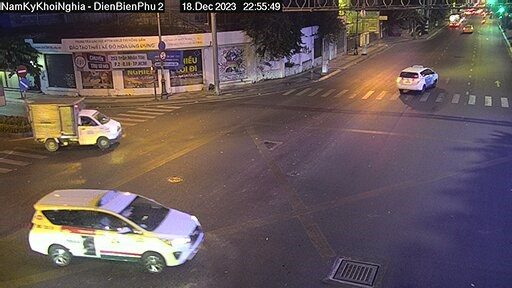car: (26, 182, 204, 272), (388, 57, 444, 98), (457, 18, 477, 36)
truck: (27, 95, 127, 152)
